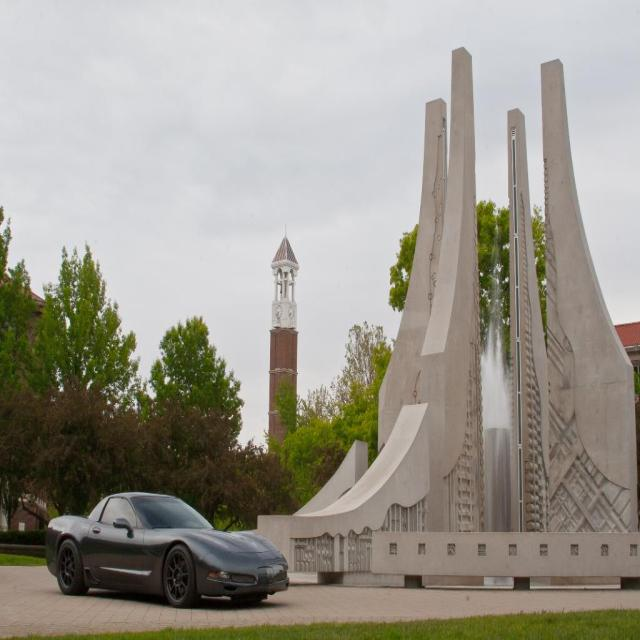car: (42, 485, 287, 605)
